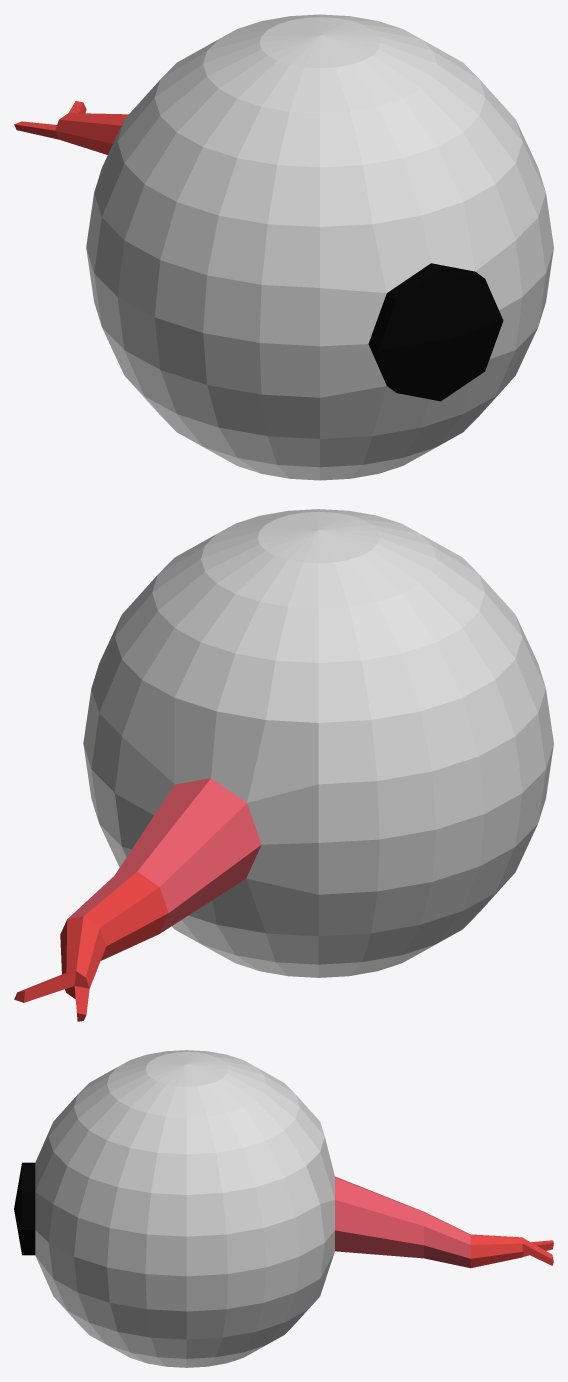
File: eye.fbx
3 views of the same model, one above another, from view 1: azimuth 30°, elevation 25°; view 2: azimuth 150°, elevation 25°; view 3: azimuth 270°, elevation 25° (orthographic). The views are drawn at different scales.
Parts seen in each view (by area): view 1: Eye; view 2: Eye; view 3: Eye.
Part boxes in pixels (left/top/right/bottom): Eye: left=14, top=14, right=553, bottom=480; Eye: left=14, top=509, right=553, bottom=1021; Eye: left=14, top=1050, right=553, bottom=1367.
Size of the model in its own units: 40.59 by 40.59 by 68.7.
